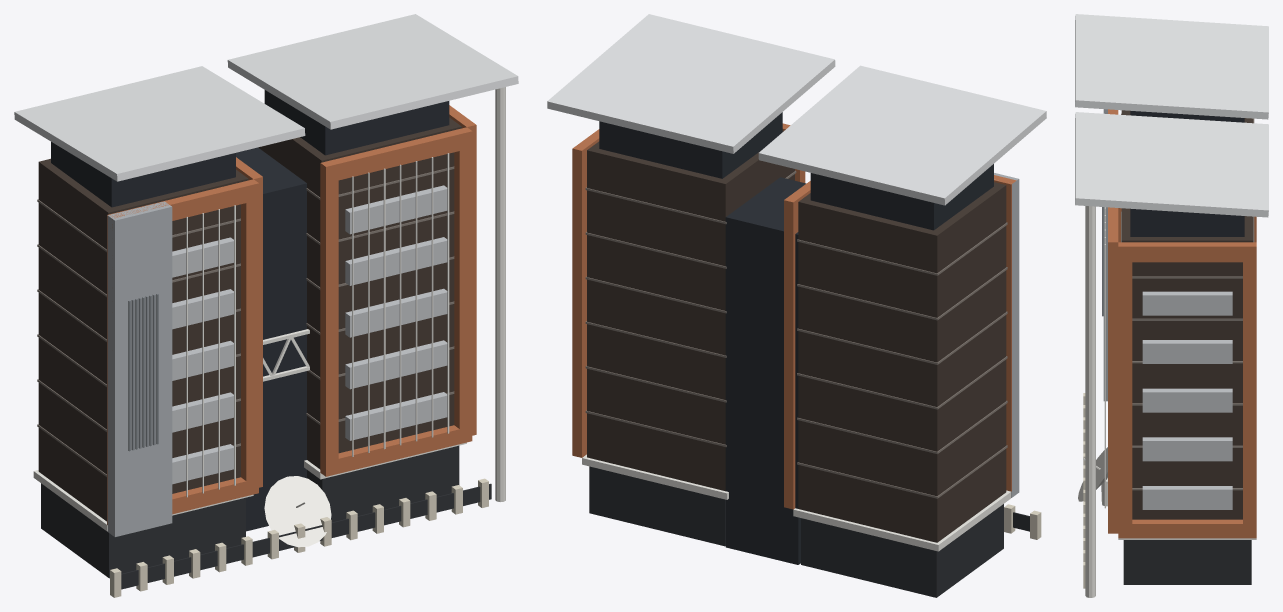
Rendered from galaxy-backbone.glb.
The picture shows the model from 3 angles, left to right: view 1: azimuth 30°, elevation 25°; view 2: azimuth 150°, elevation 25°; view 3: azimuth 270°, elevation 25°; orthographic projection. The views are drawn at different scales.
Parts seen in each view (by area): view 1: galaxy-backbone_Building; view 2: galaxy-backbone_Building; view 3: galaxy-backbone_Building.
Part boxes in pixels (x1,y1,x2,y2): galaxy-backbone_Building: (14,14,518,597); galaxy-backbone_Building: (547,14,1046,597); galaxy-backbone_Building: (1075,14,1268,597).
Size of the model in its own units: 25.2 by 25.64 by 11.2.
